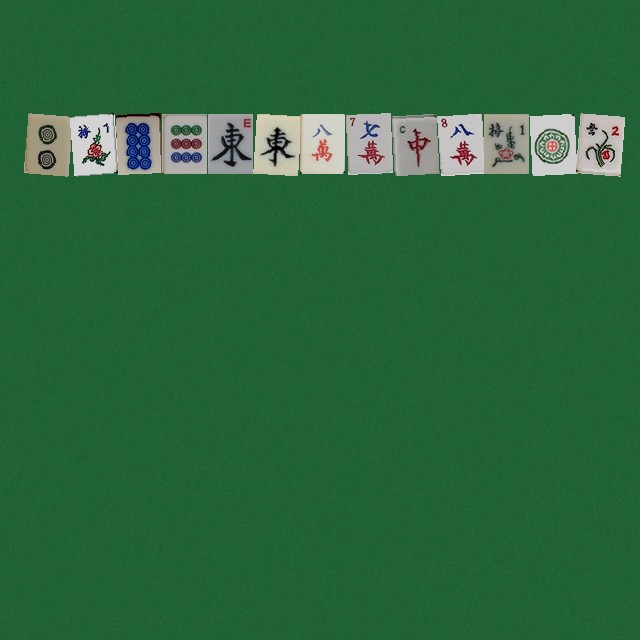tile: (23, 113, 68, 173), (69, 113, 114, 173), (115, 113, 160, 173), (161, 113, 206, 173), (207, 113, 252, 173), (253, 113, 298, 173), (299, 113, 344, 173), (345, 113, 390, 173), (391, 113, 436, 173), (437, 113, 482, 173), (483, 113, 528, 173), (529, 113, 574, 173), (575, 113, 620, 173)
